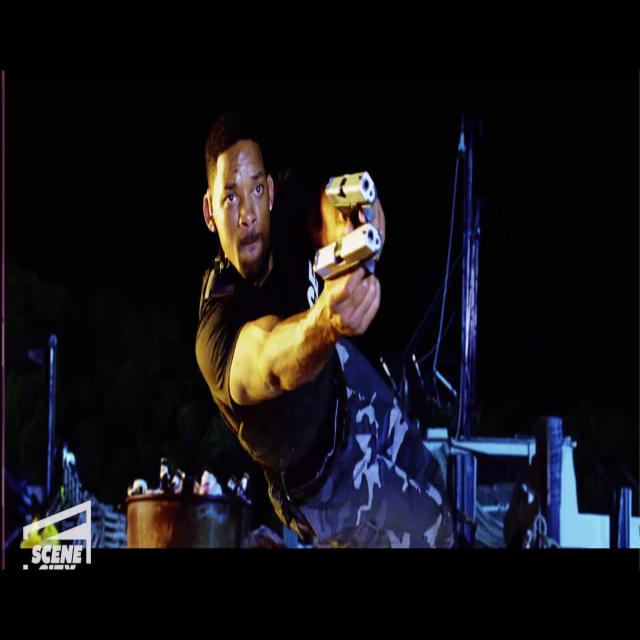weapons: (307, 216, 393, 312), (311, 157, 381, 239)
